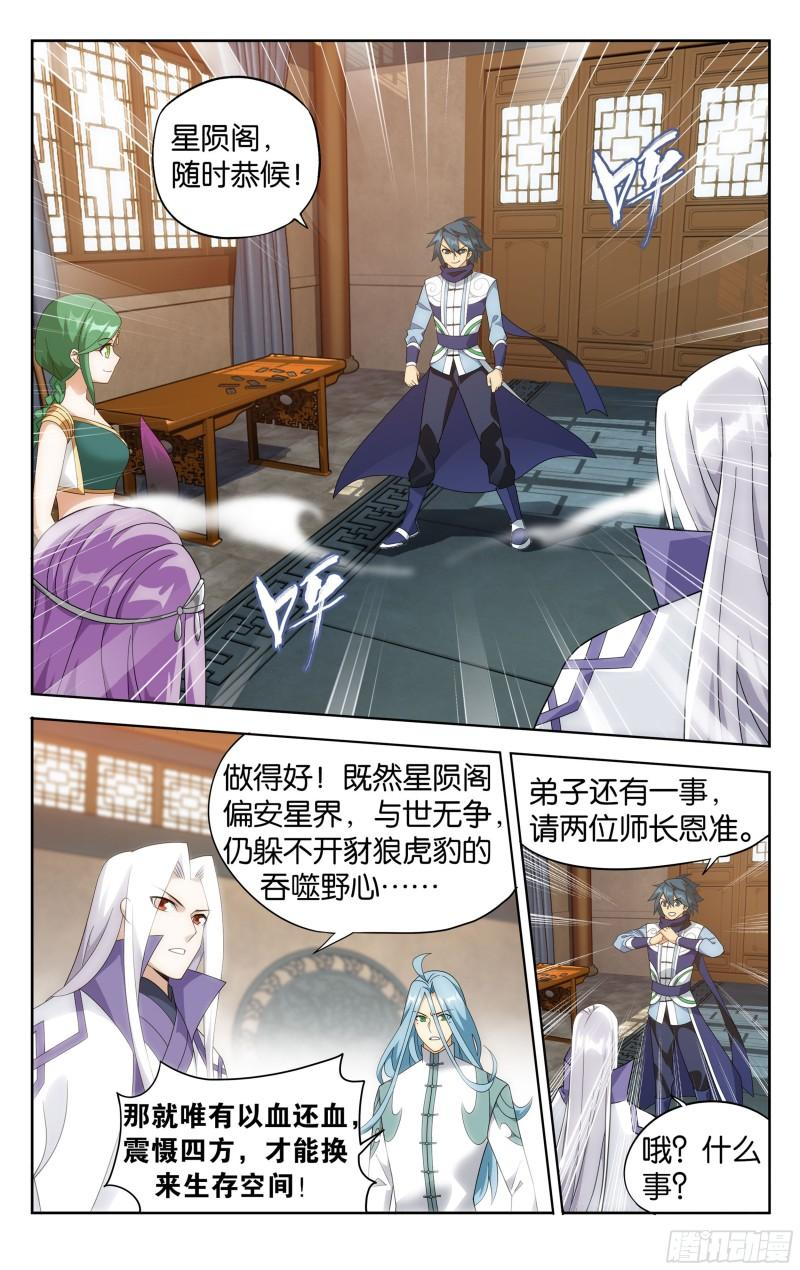boxBomb: (102, 1054, 378, 1216)
boxEllipse: (204, 727, 519, 953), (510, 742, 777, 874), (144, 68, 315, 242), (621, 1090, 773, 1219)
minBox: (24, 35, 777, 751), (21, 709, 558, 1219), (504, 742, 780, 1219)
